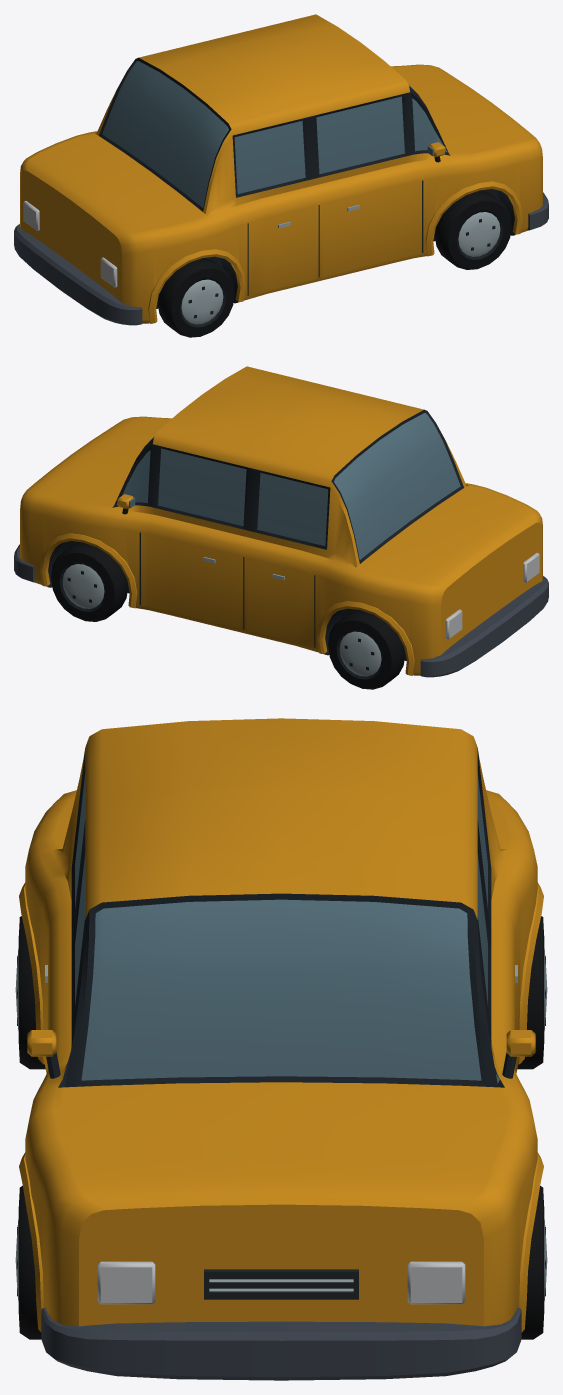
Rendered from cute-car-sedan.glb.
3 renders of one model, top to bottom at view 1: azimuth 30°, elevation 25°; view 2: azimuth 150°, elevation 25°; view 3: azimuth 270°, elevation 25°, orthographic. The views are drawn at different scales.
Visible parts, largest first — view 1: Cute-car-sedanBody; view 2: Cute-car-sedanBody; view 3: Cute-car-sedanBody.
Boxes of the visible parts, box(x1,y1,x2,y2) form: Cute-car-sedanBody: box(14, 14, 548, 337); Cute-car-sedanBody: box(14, 366, 548, 689); Cute-car-sedanBody: box(15, 718, 547, 1380).
Size of the model in its own units: 3.52 by 1.52 by 1.81.
Materials: 1 (1 with a texture image).
